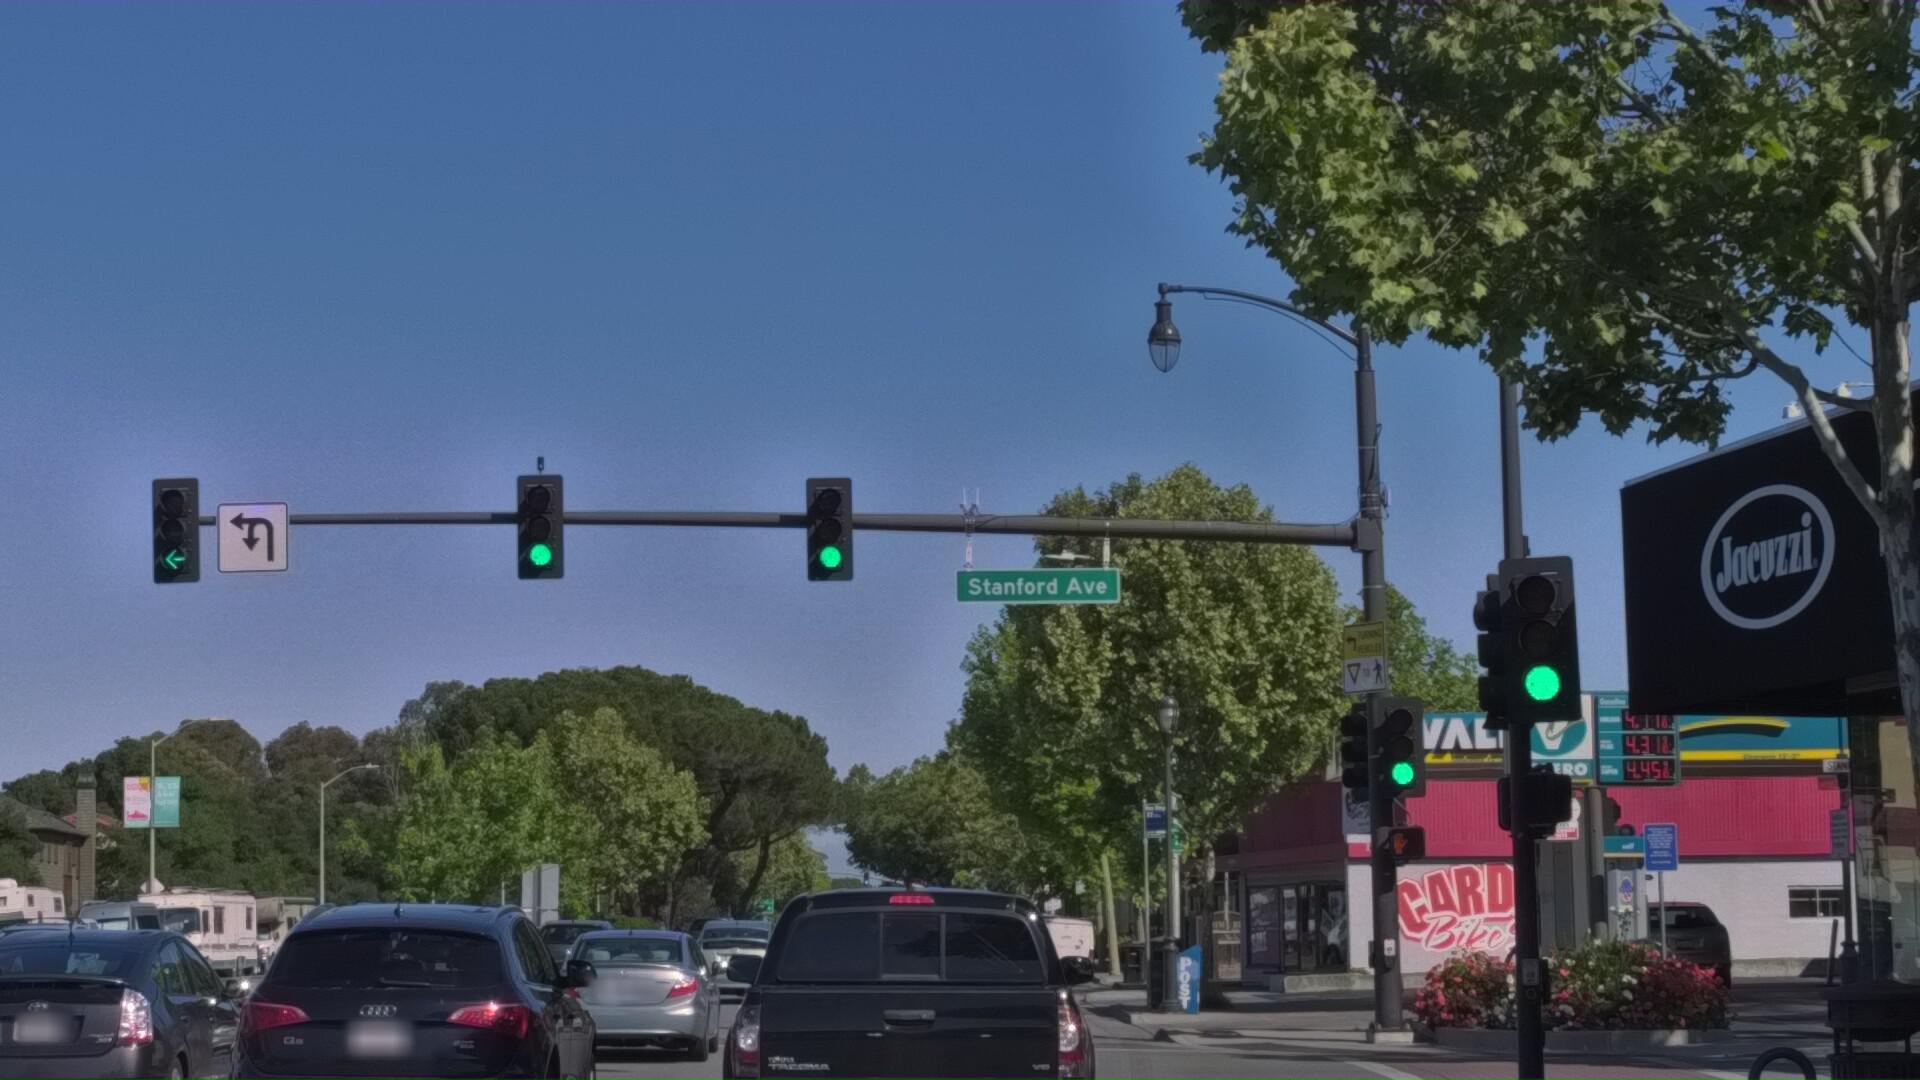car: (717, 938, 1110, 1080), (218, 964, 620, 1080), (0, 971, 265, 1080), (1578, 972, 1742, 1076), (527, 1014, 742, 1080), (0, 986, 127, 1080), (909, 1000, 1029, 1080), (669, 1018, 786, 1080), (0, 1004, 40, 1080)
